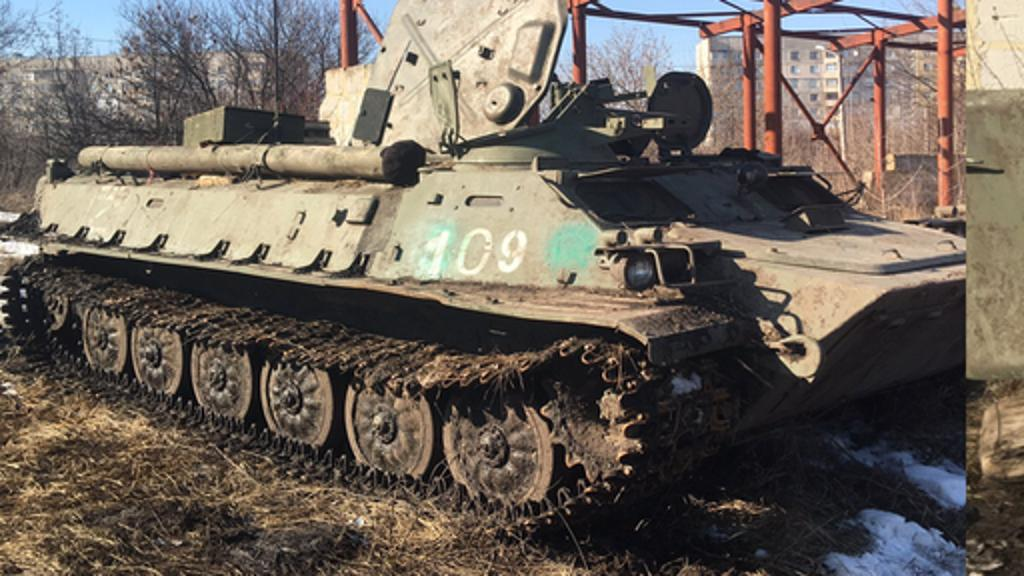APC-IFV: (4, 14, 966, 530)
